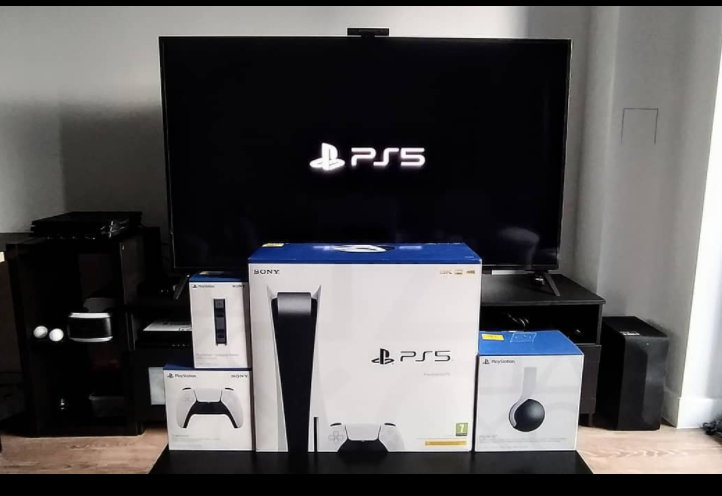gamingconsole: (174, 386, 245, 429), (322, 424, 404, 450)
